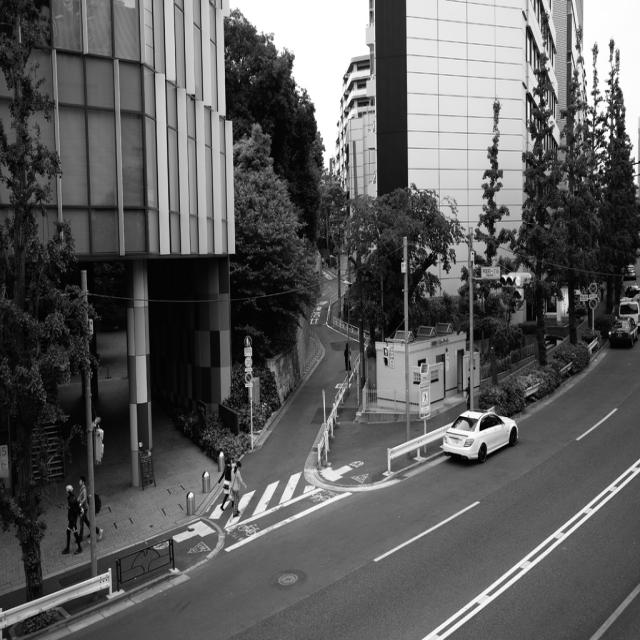car: (442, 406, 523, 468)
